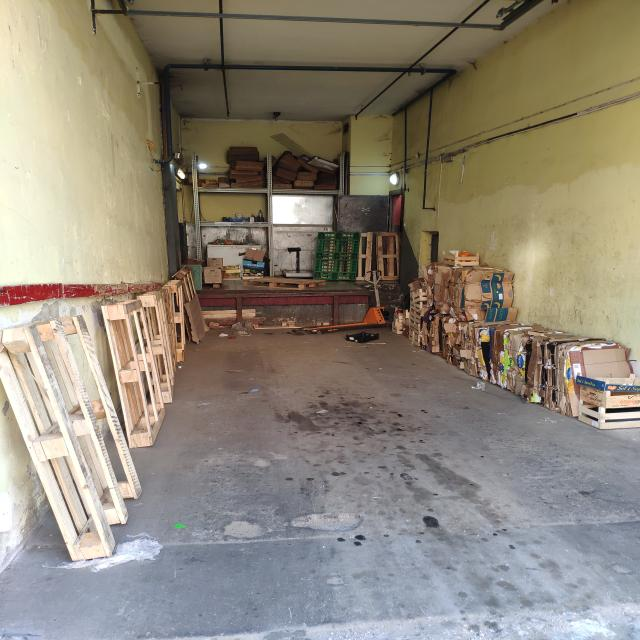entulho: (0, 317, 133, 556), (93, 272, 205, 444), (507, 330, 640, 422), (400, 248, 519, 322), (399, 311, 508, 384), (317, 232, 401, 282), (273, 150, 339, 191), (574, 390, 638, 430), (227, 144, 266, 188), (244, 277, 326, 289), (242, 249, 267, 277), (202, 257, 224, 287), (200, 177, 229, 188), (224, 266, 242, 280)
lixo domiciliar: (221, 209, 264, 223)
